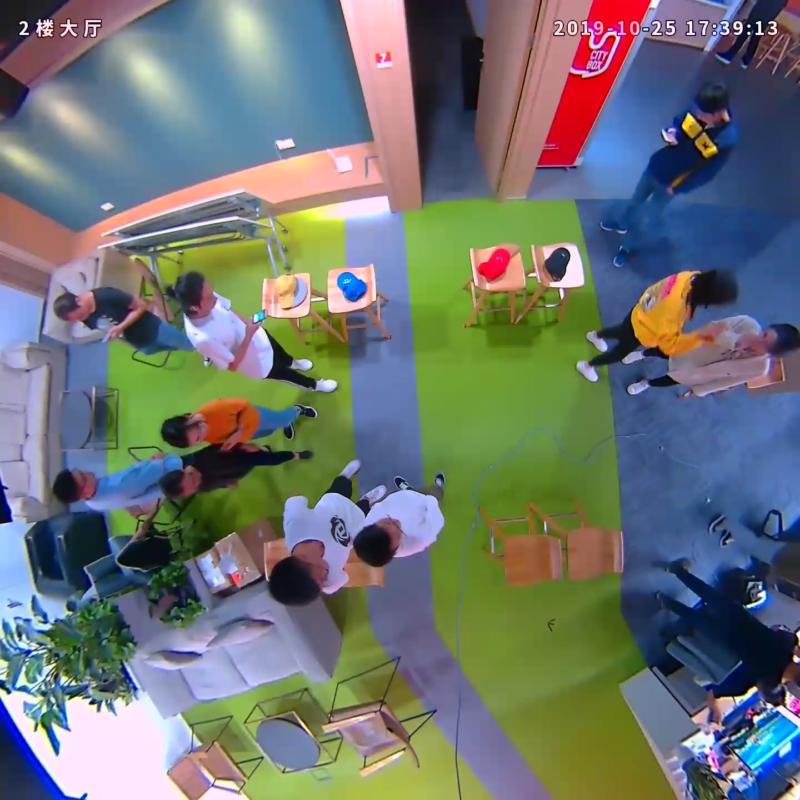head: (267, 554, 330, 607), (352, 516, 403, 567), (171, 272, 219, 315), (692, 268, 739, 308), (750, 323, 800, 357), (51, 467, 98, 503), (162, 414, 208, 449), (694, 80, 729, 125), (51, 290, 89, 323), (158, 470, 201, 497)
